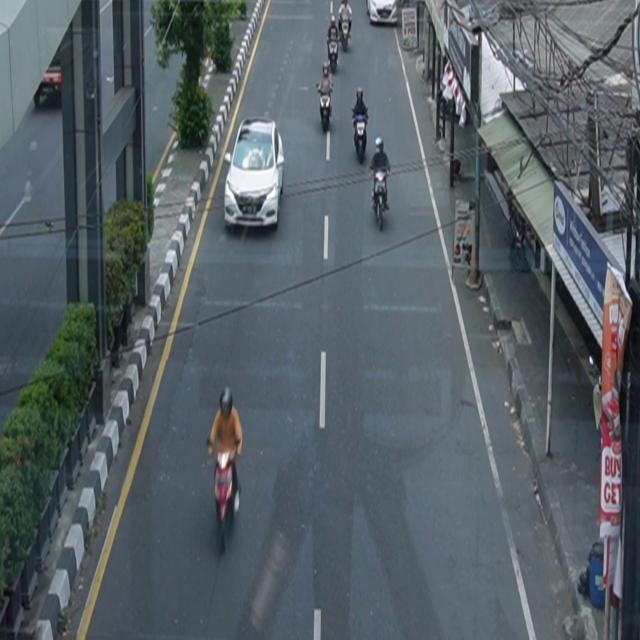car: (225, 117, 285, 233), (367, 1, 398, 26)
